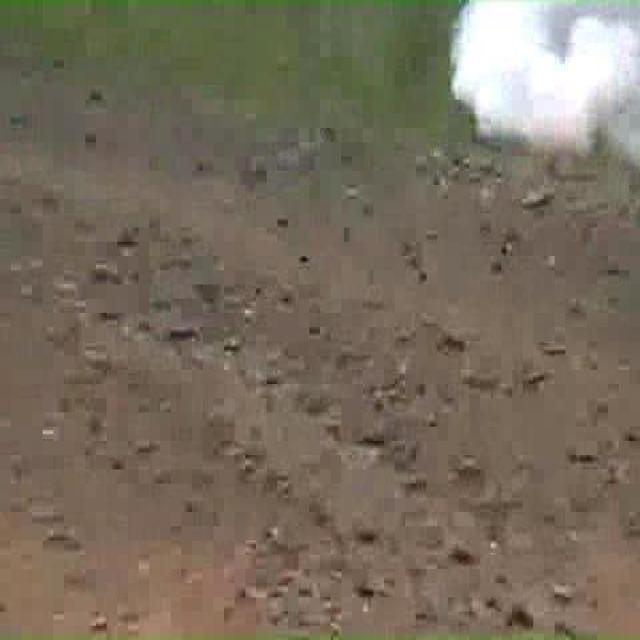Smoke: (447, 0, 640, 169)
